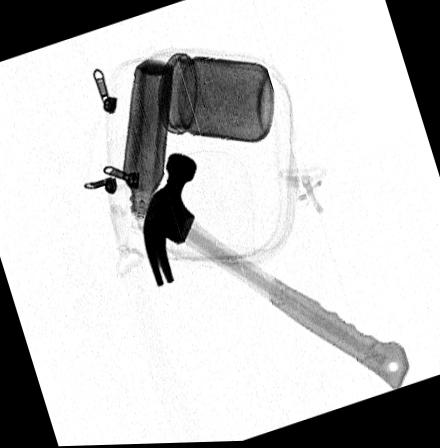Hammer: (141, 153, 409, 389)
